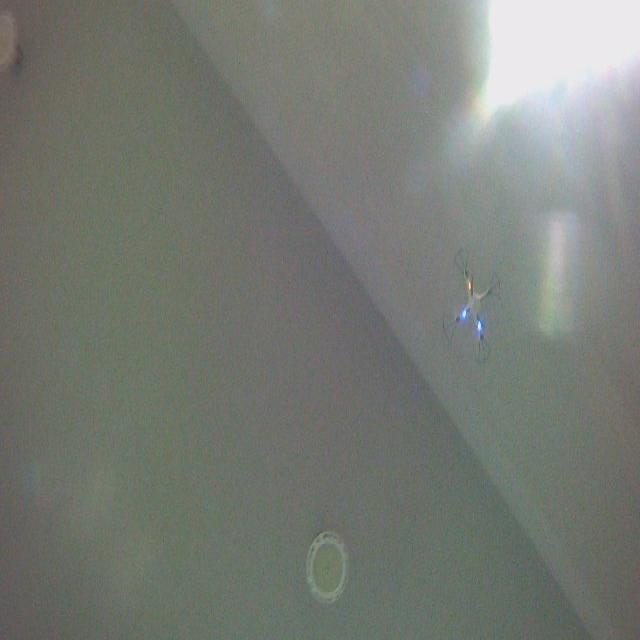drone: (440, 246, 502, 366)
